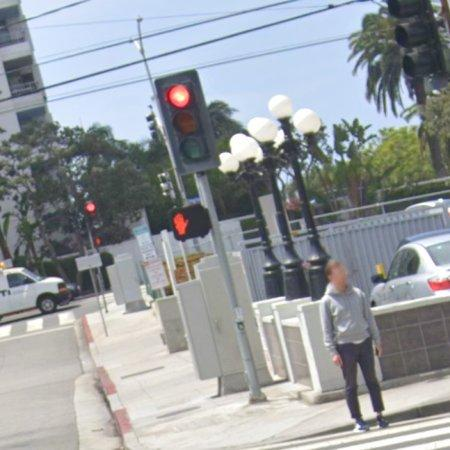traffic lights: (155, 69, 218, 175)
